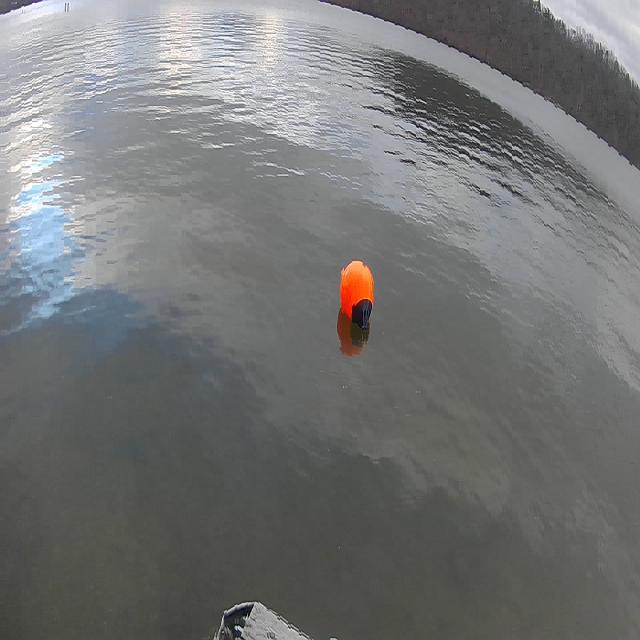Buoy: (335, 248, 380, 339)
